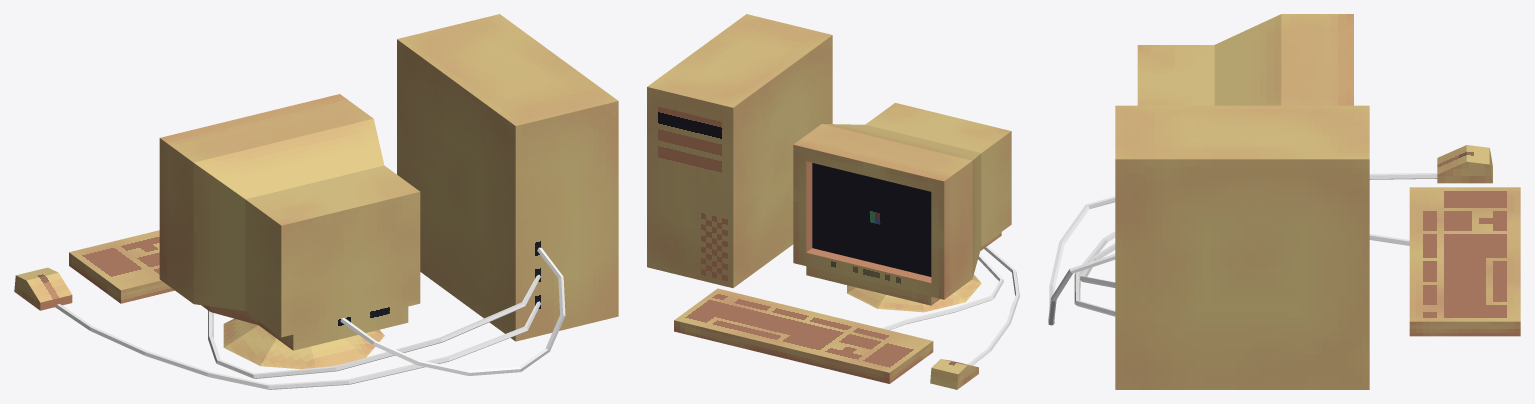
The picture shows the model from 3 angles, left to right: view 1: azimuth 30°, elevation 25°; view 2: azimuth 150°, elevation 25°; view 3: azimuth 270°, elevation 25°; orthographic projection. The views are drawn at different scales.
Visible parts, largest first — view 1: pc, monitor_main, segment (×3), keyboard, monitor_base, mouse; view 2: pc, monitor_main, keyboard, monitor_base, segment (×2), mouse; view 3: pc, keyboard, monitor_main, segment (×3), mouse.
Part boxes in pixels (x1=…): pc: x1=397, y1=14, x2=618, y2=341; monitor_main: x1=159, y1=94, x2=420, y2=350; segment (×3): x1=55, y1=247, x2=565, y2=389; keyboard: x1=69, y1=230, x2=174, y2=303; monitor_base: x1=223, y1=318, x2=384, y2=369; mouse: x1=14, y1=267, x2=72, y2=310; pc: x1=647, y1=14, x2=832, y2=287; monitor_main: x1=793, y1=102, x2=1011, y2=305; keyboard: x1=674, y1=288, x2=933, y2=383; monitor_base: x1=847, y1=274, x2=981, y2=312; segment (×2): x1=882, y1=246, x2=1019, y2=365; mouse: x1=930, y1=359, x2=978, y2=389; pc: x1=1115, y1=105, x2=1369, y2=389; keyboard: x1=1409, y1=187, x2=1520, y2=336; monitor_main: x1=1137, y1=14, x2=1353, y2=105; segment (×3): x1=1048, y1=173, x2=1437, y2=325; mouse: x1=1437, y1=145, x2=1492, y2=183.
Size of the model in its own units: 1.04 by 0.5063 by 0.9289.
3 materials, 2 textured.
